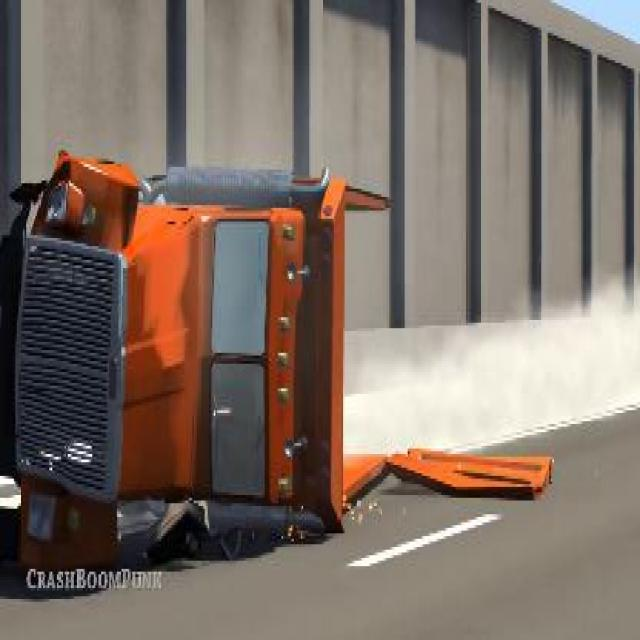accident: (3, 140, 355, 588)
